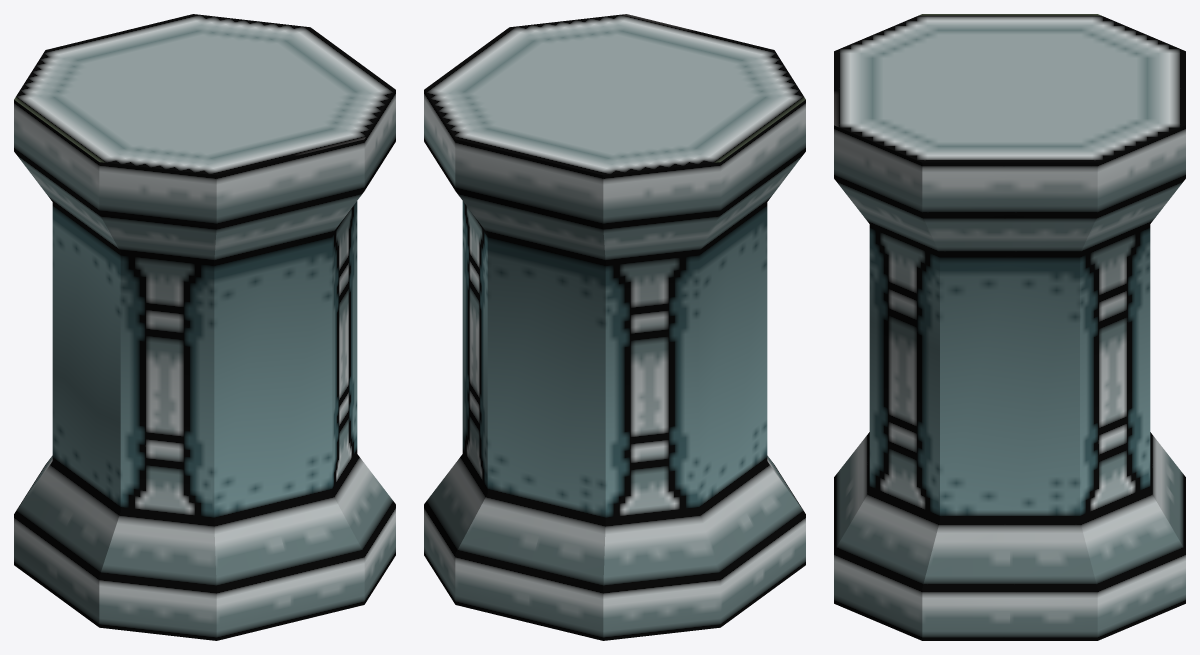
Rendered from deco_winter_pillar.FBX.
3 renders of one model, left to right at view 1: azimuth 30°, elevation 25°; view 2: azimuth 150°, elevation 25°; view 3: azimuth 270°, elevation 25°, orthographic. The views are drawn at different scales.
Parts seen in each view (by area): view 1: deco_winter_pillar; view 2: deco_winter_pillar; view 3: deco_winter_pillar.
Boxes of the visible parts, box(x1,y1,x2,y2) form: deco_winter_pillar: box(14, 14, 395, 640); deco_winter_pillar: box(424, 14, 805, 640); deco_winter_pillar: box(834, 14, 1185, 640).
Size of the model in its own units: 1 by 1.5 by 1.
Materials: 1 (1 with a texture image).
